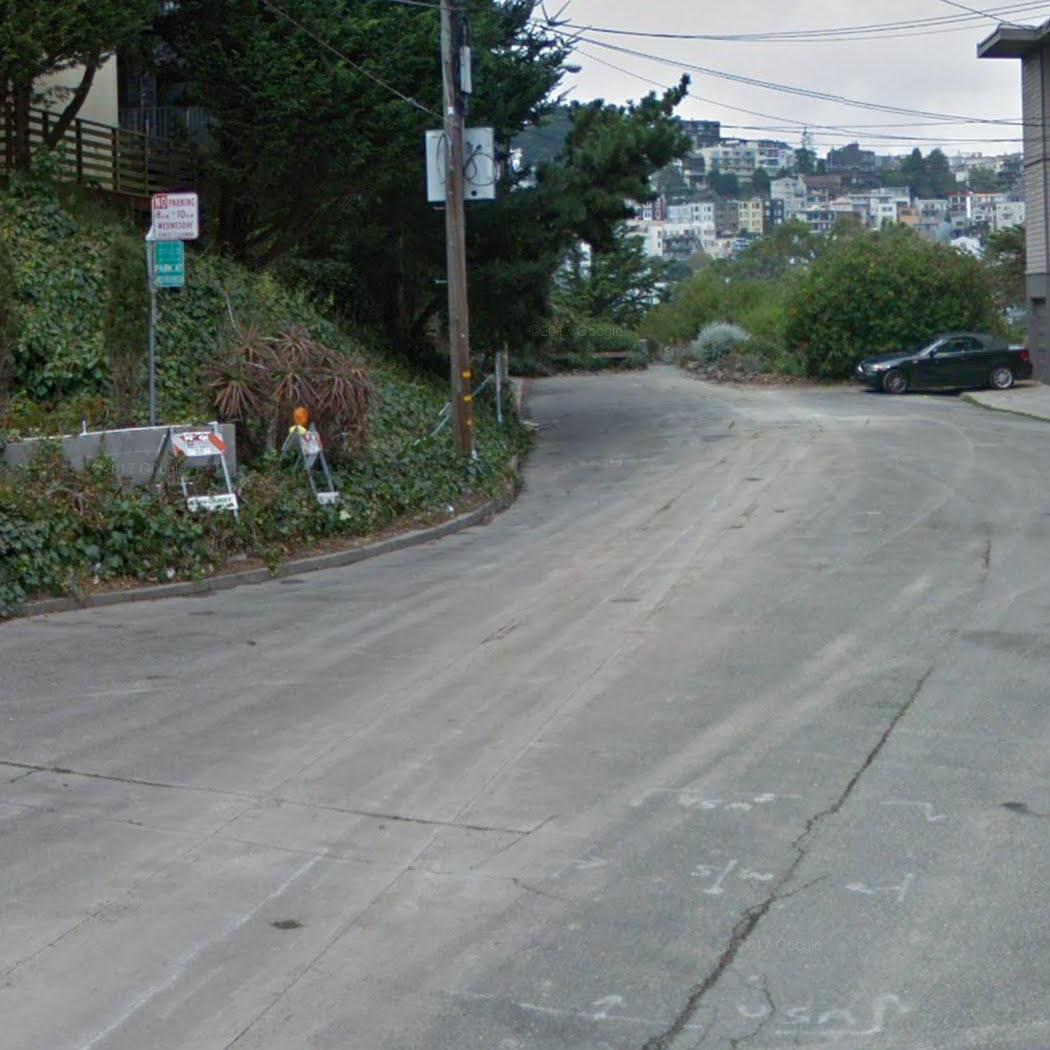No Parking: (149, 190, 199, 242)
